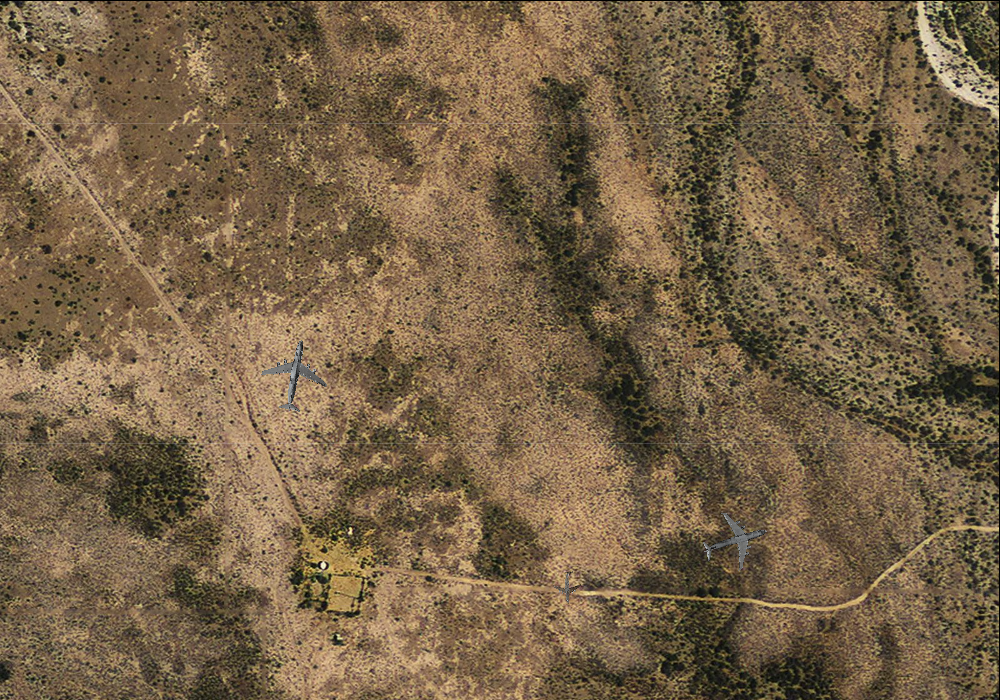plane: (254, 333, 335, 418), (695, 502, 775, 580), (551, 570, 584, 604)
